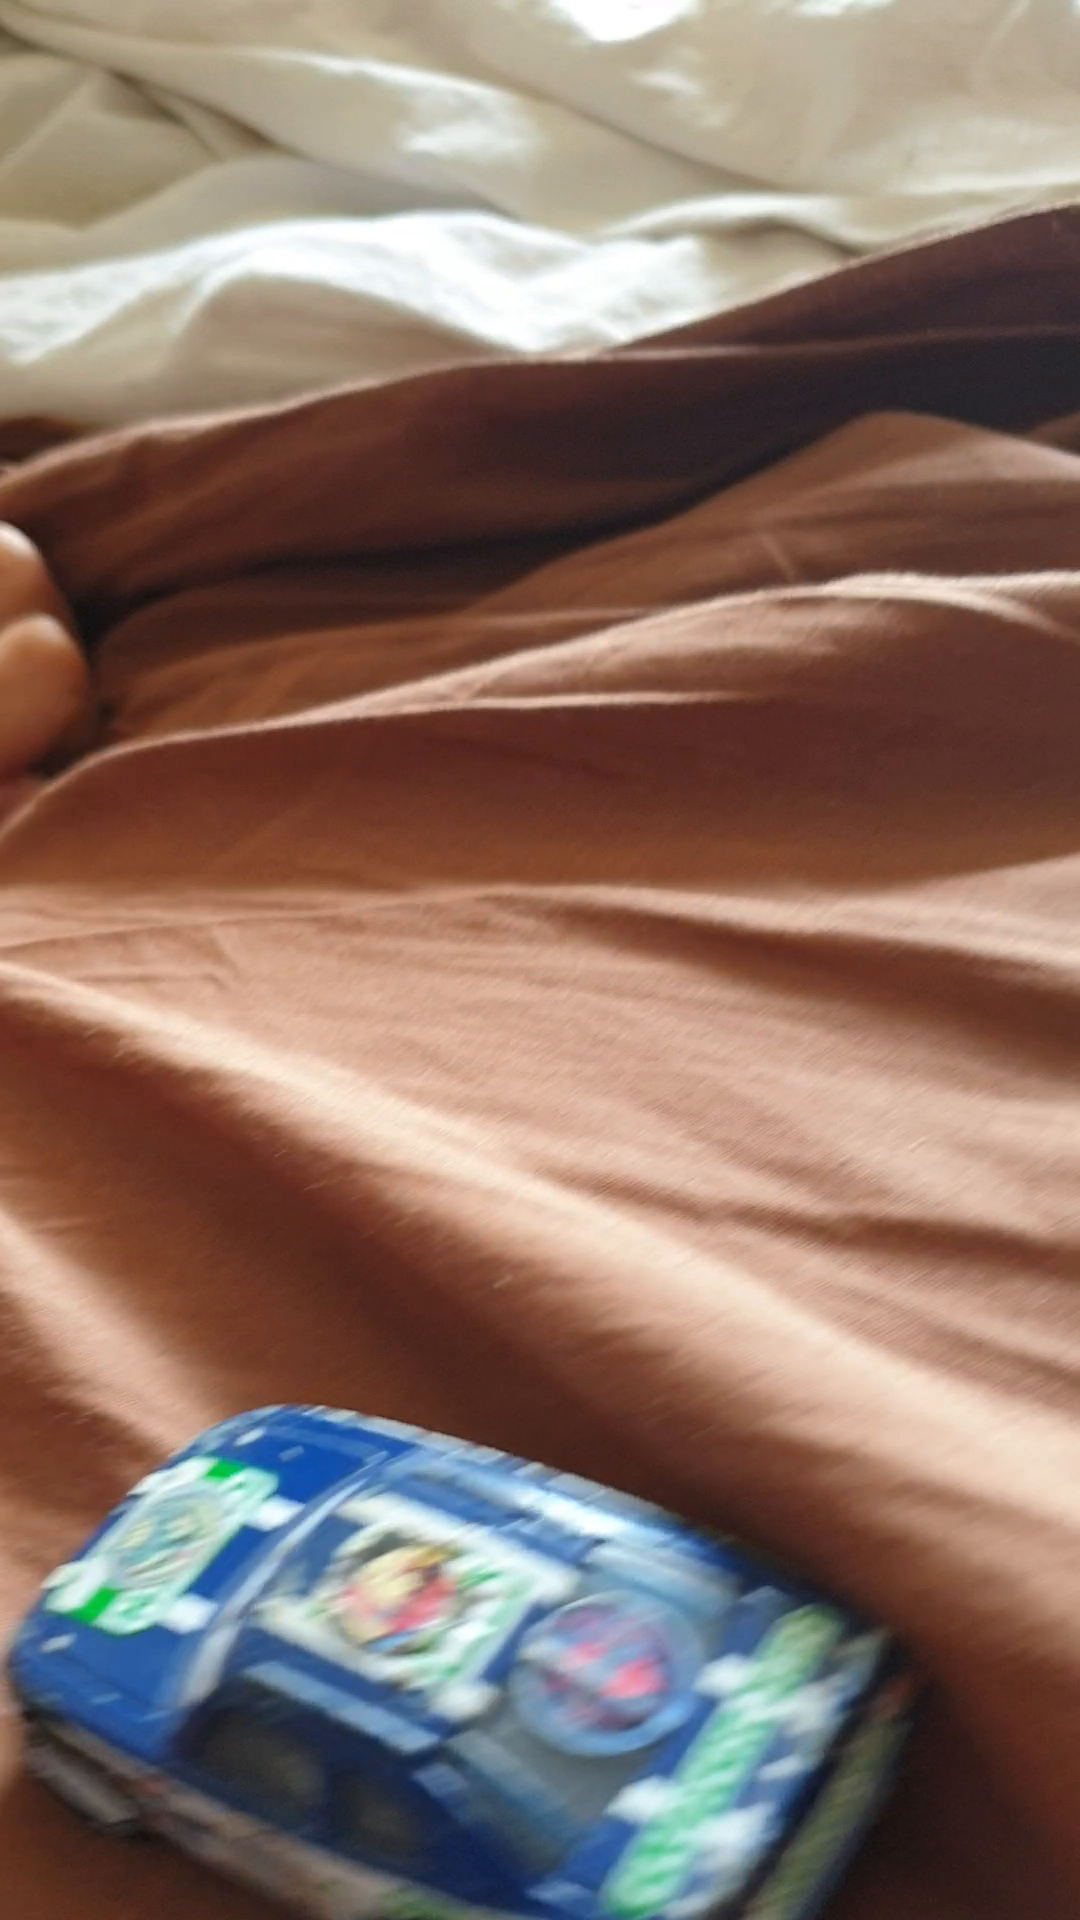cars: (9, 1403, 927, 1920)
